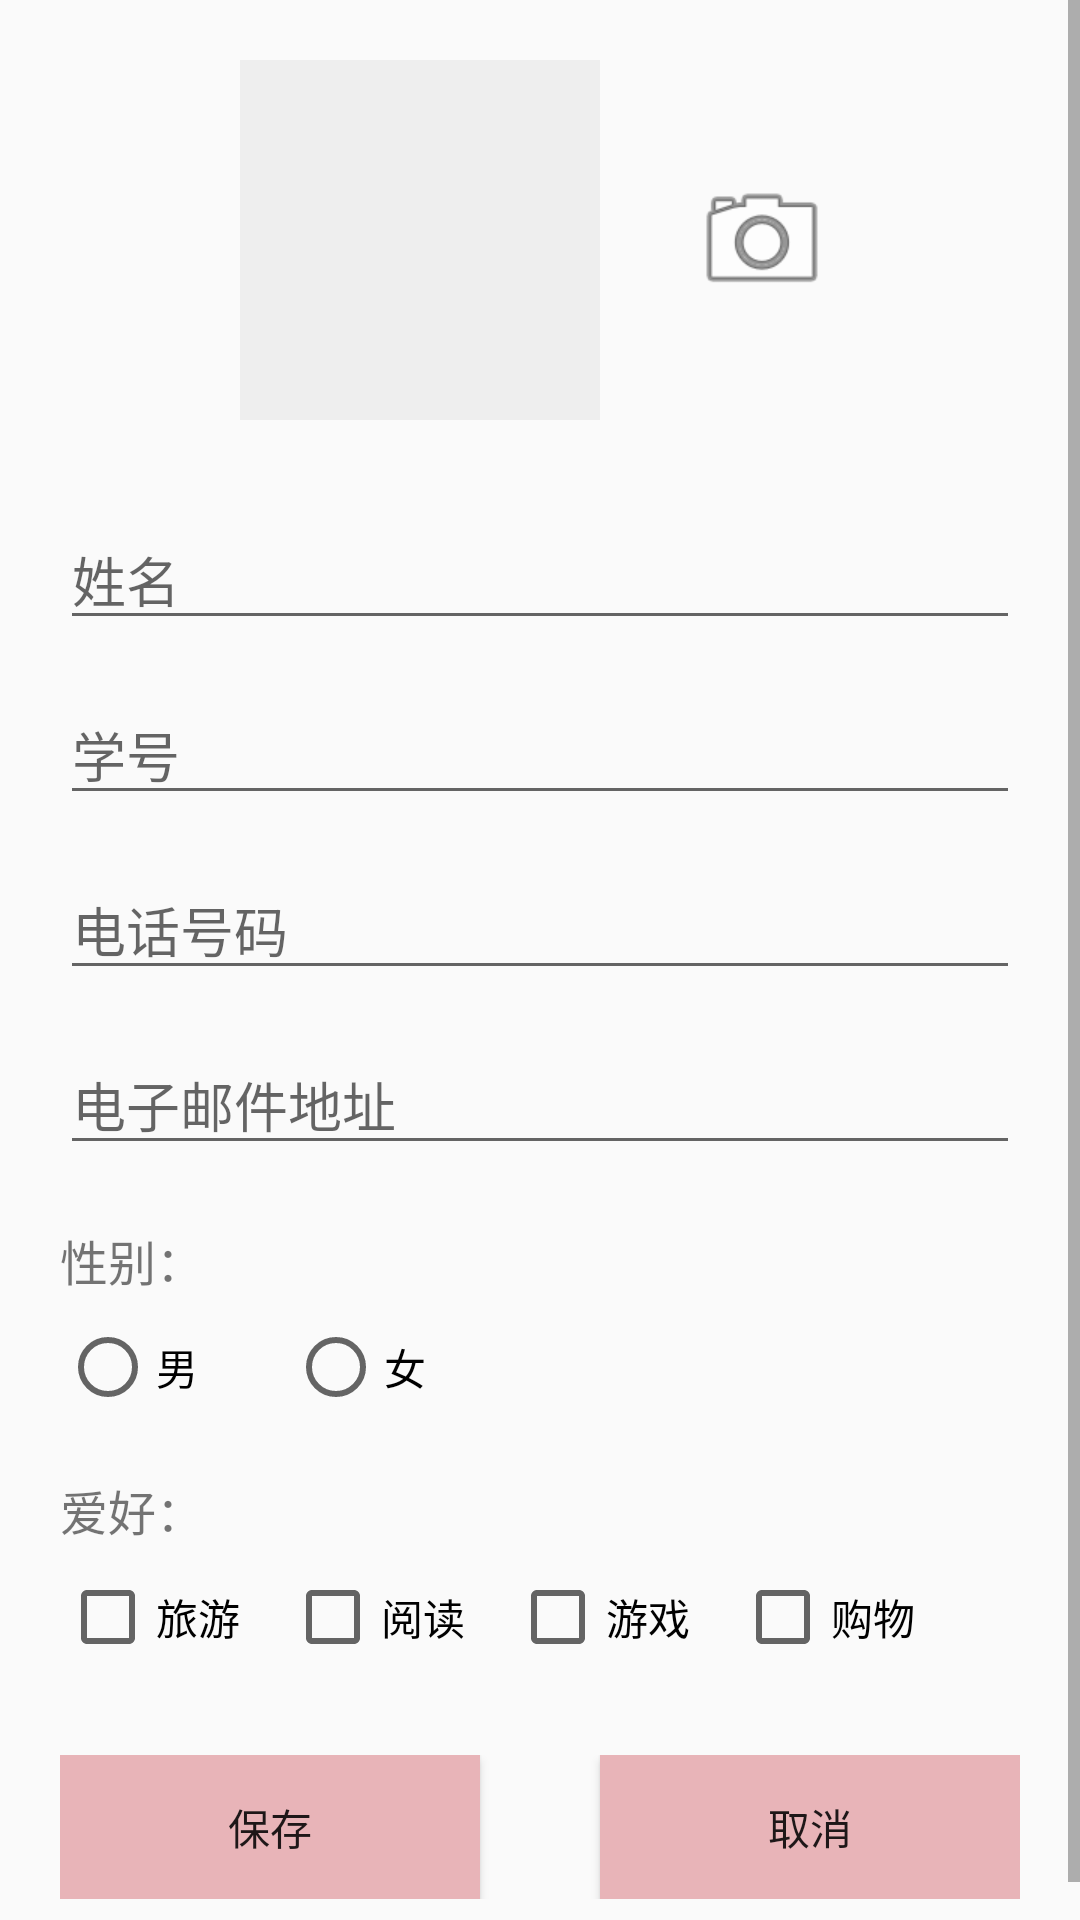

Named icons in this screenshot (1080px x 1920px) and their centers, [x,y]:
camera: [762,237]
